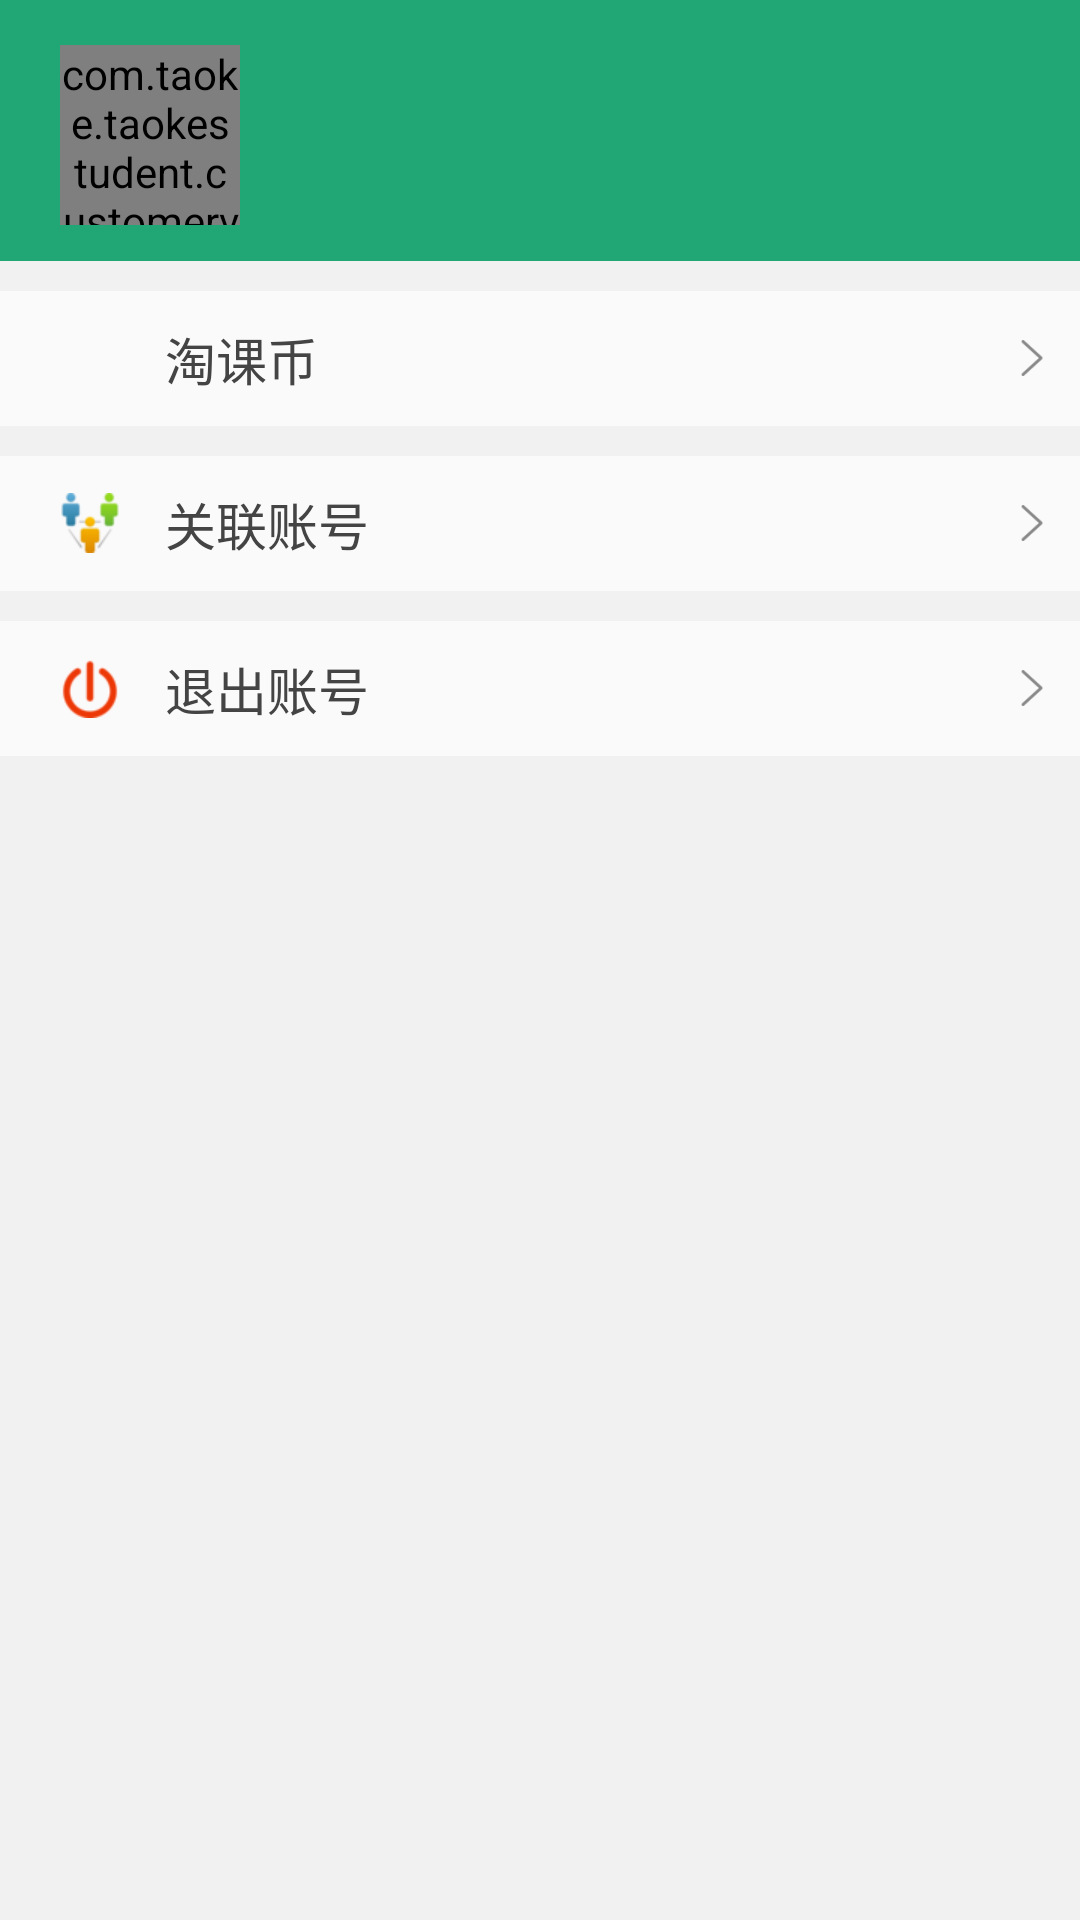

Icon click points for this 1080 x 1920 phone screenshot, format [x,y]:
arrow right: [1032,358], [1032,523], [1032,688]
exit: [90,689]
farmly: [90,523]
